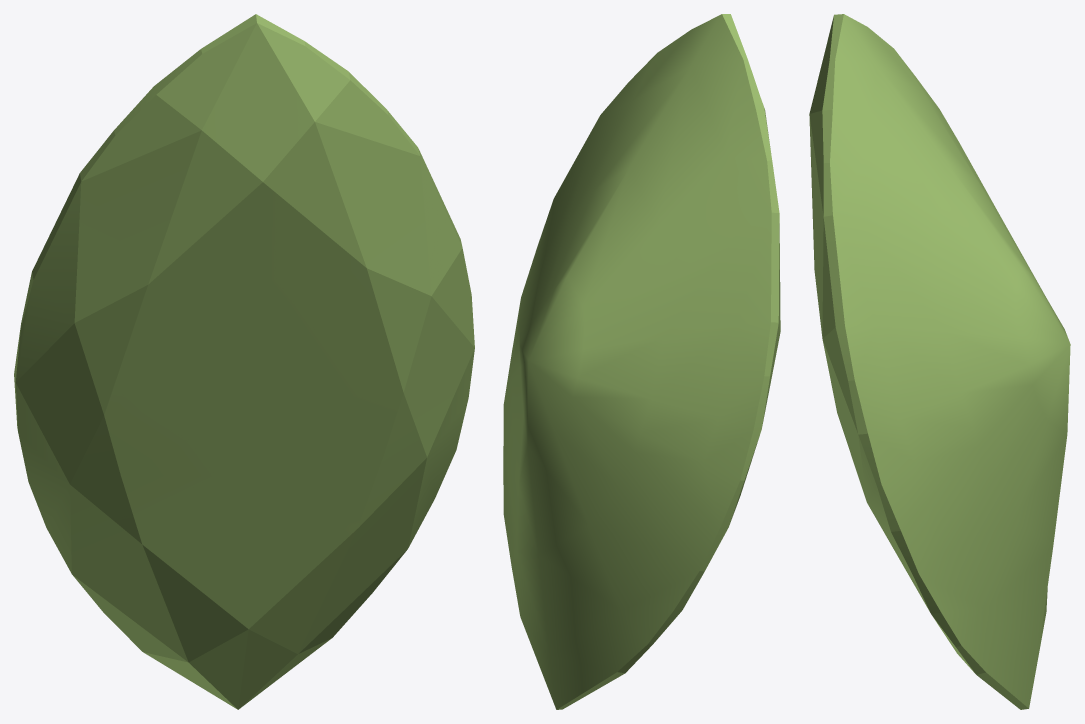
The model's file is BL2_8shapes_Marquise_Classic_Stone.001 3.glb.
3 views of the same model, side by side, from view 1: azimuth 30°, elevation 25°; view 2: azimuth 150°, elevation 25°; view 3: azimuth 270°, elevation 25° (orthographic). The views are drawn at different scales.
Visible parts, largest first — view 1: BL2_8shapes_Marquise_Classic_Stone.001; view 2: BL2_8shapes_Marquise_Classic_Stone.001; view 3: BL2_8shapes_Marquise_Classic_Stone.001.
Part boxes in pixels (<box>): BL2_8shapes_Marquise_Classic_Stone.001: <box>14,14,474,709</box>; BL2_8shapes_Marquise_Classic_Stone.001: <box>503,14,780,709</box>; BL2_8shapes_Marquise_Classic_Stone.001: <box>809,14,1070,709</box>.
Size of the model in its own units: 0.304 by 0.606 by 0.2173.
